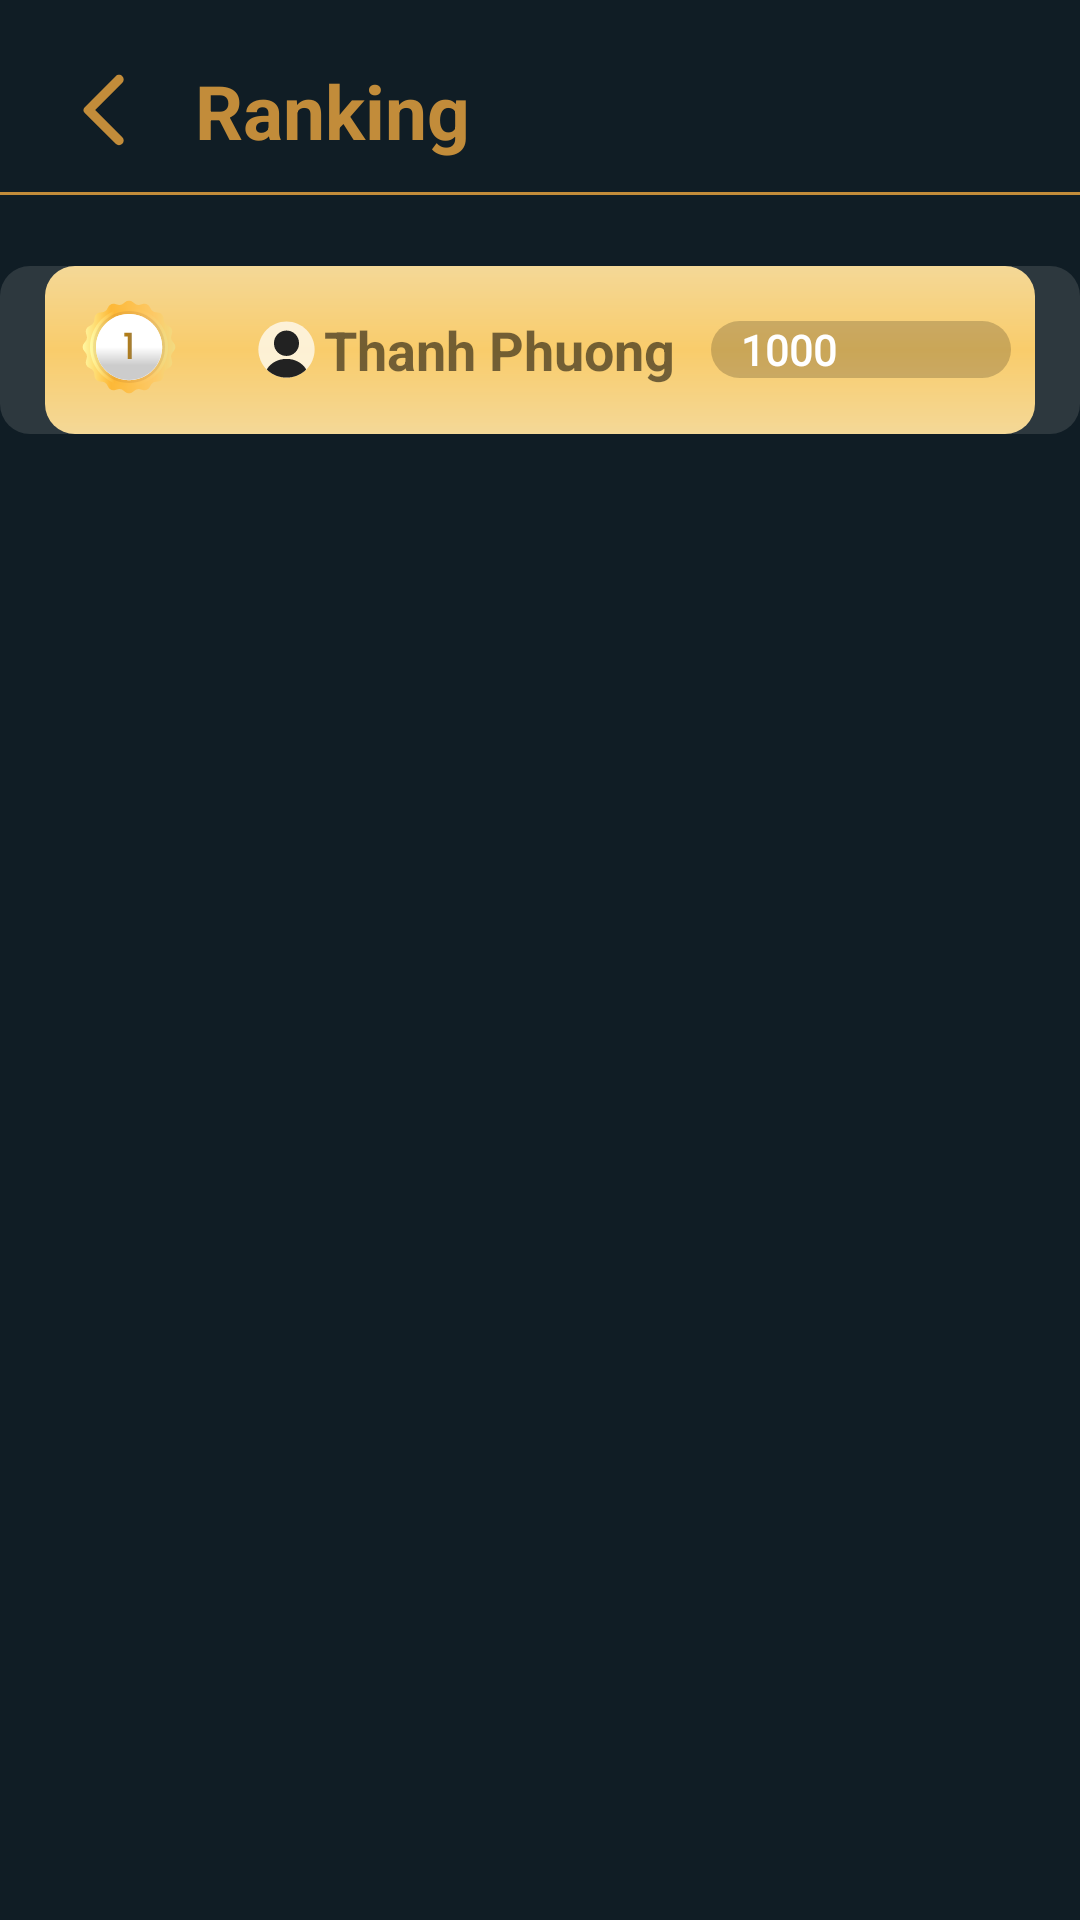

Icons on this 1080×1920 Android screen, each with the point to tap as point (x, y):
back arrow: point (103, 109)
badge: point (127, 347)
